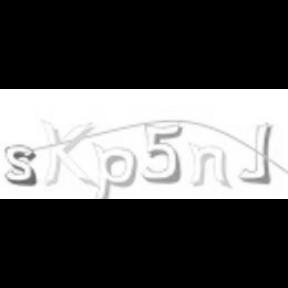5: (140, 119, 182, 186)
J: (238, 120, 276, 188)
K: (40, 117, 100, 191)
n: (188, 140, 232, 190)
p: (92, 139, 138, 199)
s: (3, 144, 37, 186)
